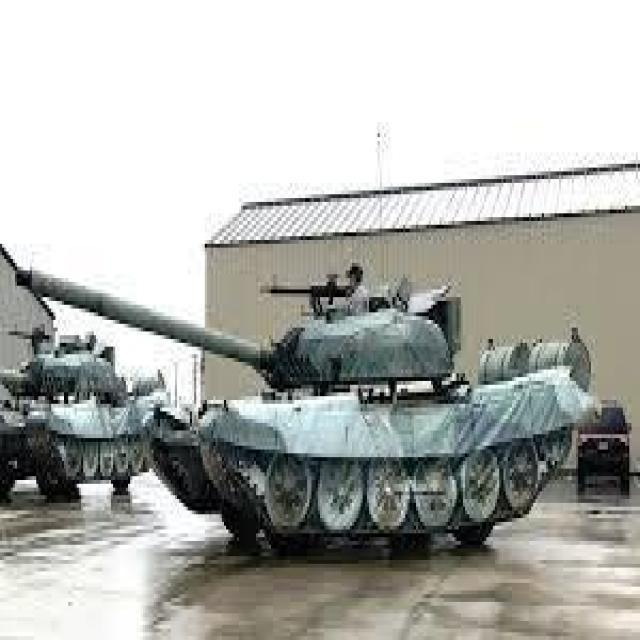MIL_MBT: (153, 251, 594, 568), (4, 299, 158, 516)
